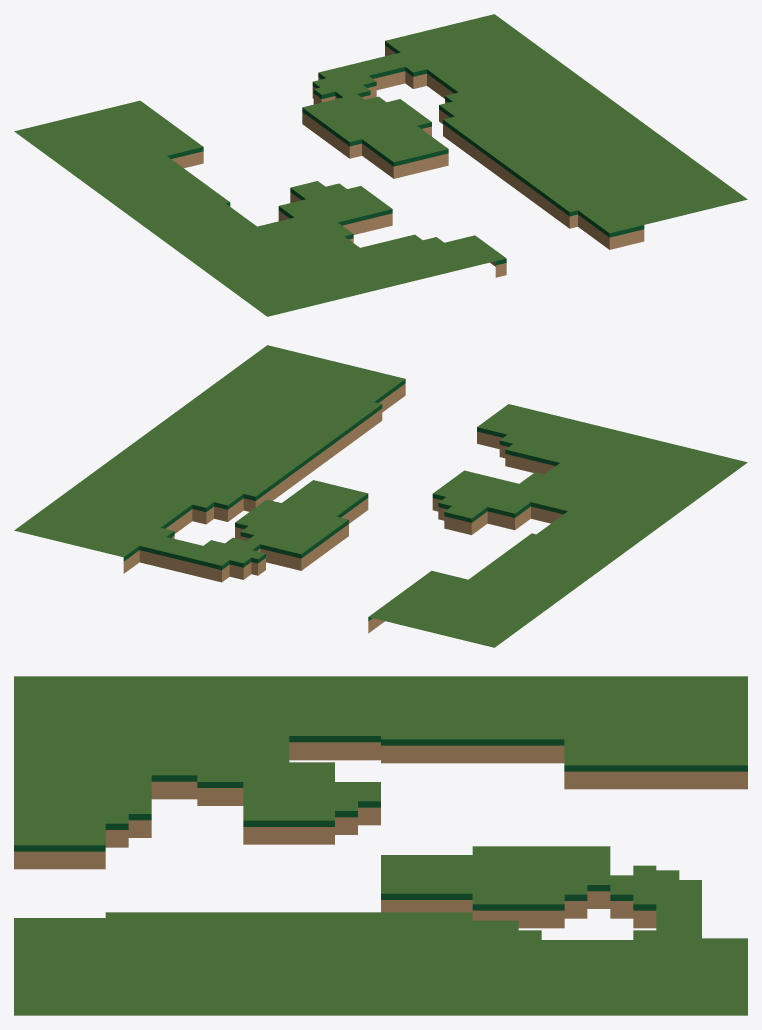
File: DM_Env_Tile_03.fbx
3 views of the same model, one above another, from view 1: azimuth 30°, elevation 25°; view 2: azimuth 150°, elevation 25°; view 3: azimuth 270°, elevation 25° (orthographic). The views are drawn at different scales.
Visible parts, largest first — view 1: SM_Env_Tile_03; view 2: SM_Env_Tile_03; view 3: SM_Env_Tile_03.
Boxes of the visible parts, box(x1,y1,x2,y2) form: SM_Env_Tile_03: box(14, 14, 747, 316); SM_Env_Tile_03: box(14, 345, 747, 647); SM_Env_Tile_03: box(14, 676, 747, 1015).
Bounding box in the file's own units: 87.59 × 80 × 2.89.
